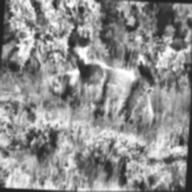boar: (43, 48, 163, 142)
